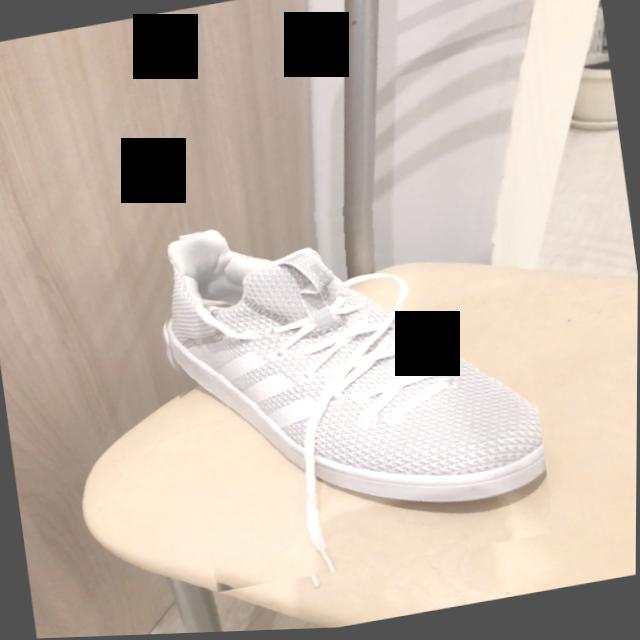shoe: (167, 232, 548, 575)
